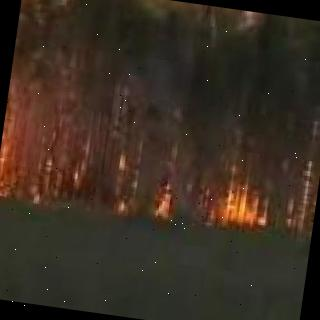fire: (106, 156, 182, 224), (213, 172, 282, 231), (0, 55, 21, 201)
